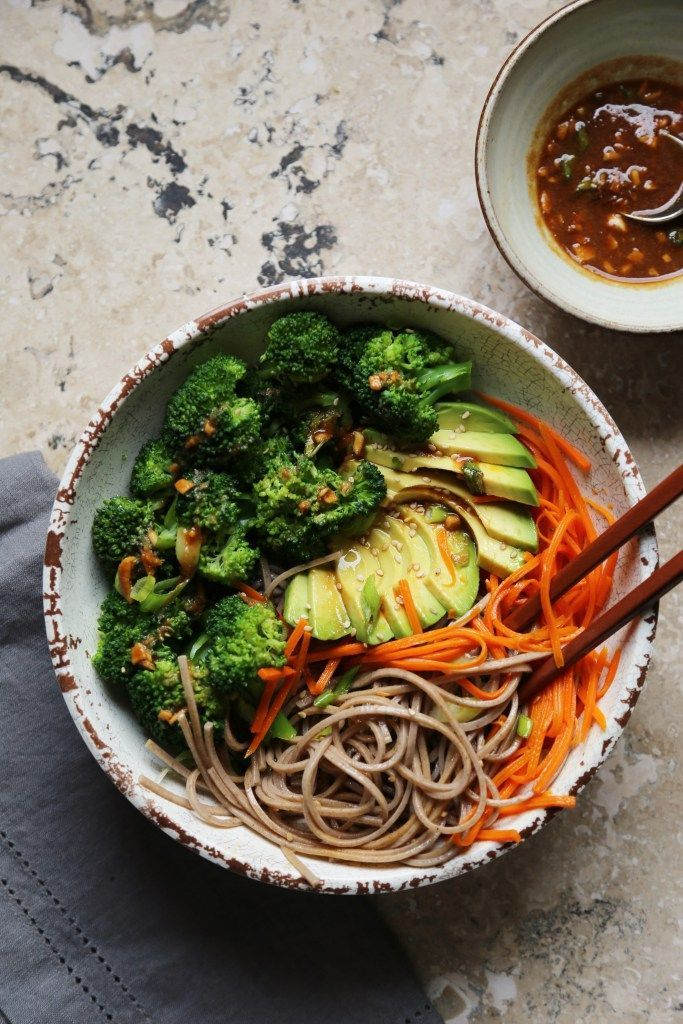Soba: (169, 652, 576, 876)
